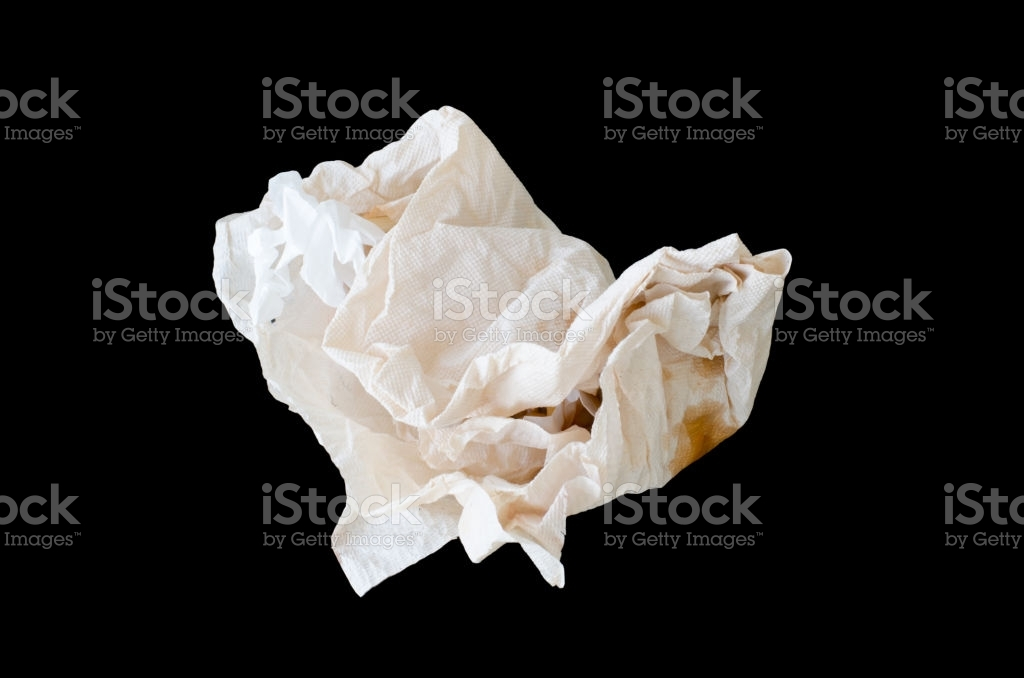paper: (171, 86, 803, 613)
